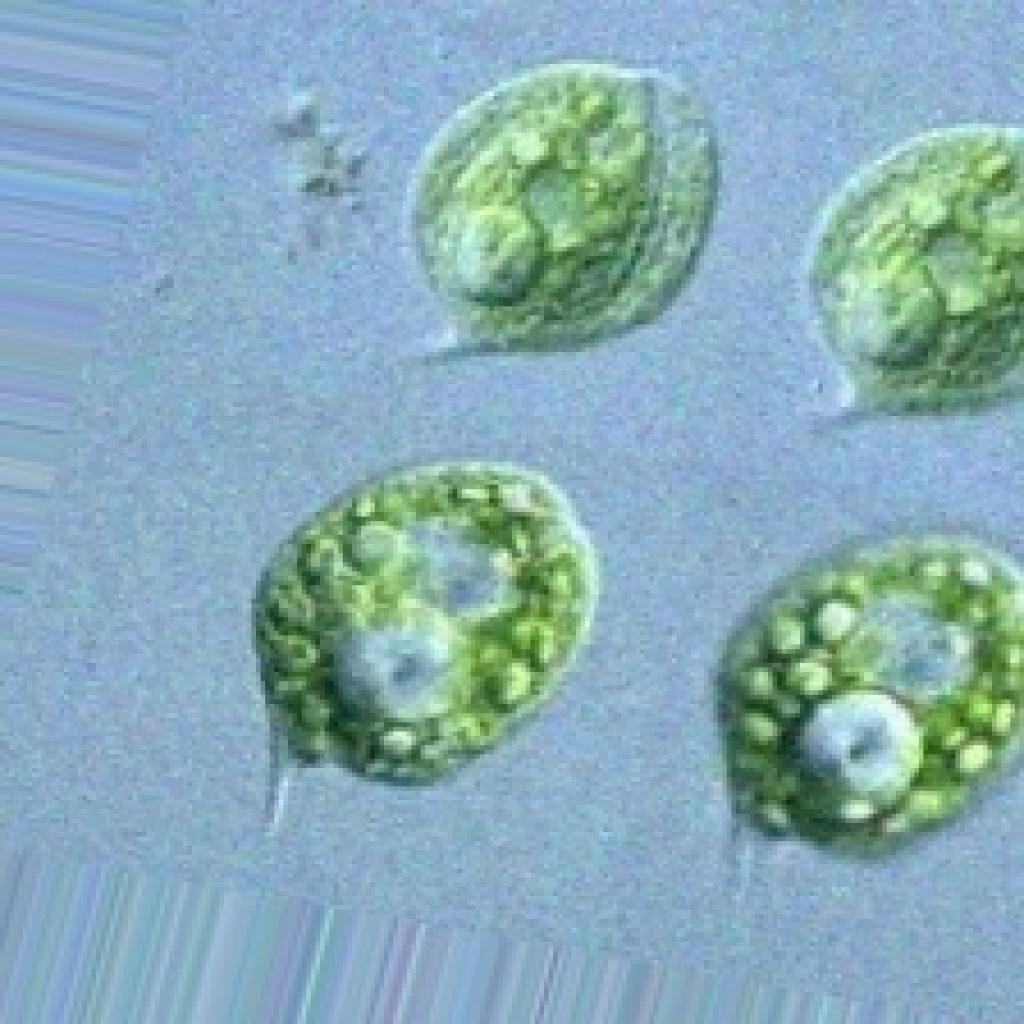Microalgae: (247, 453, 599, 809), (708, 526, 1020, 855), (402, 55, 718, 352), (804, 119, 1020, 416)
